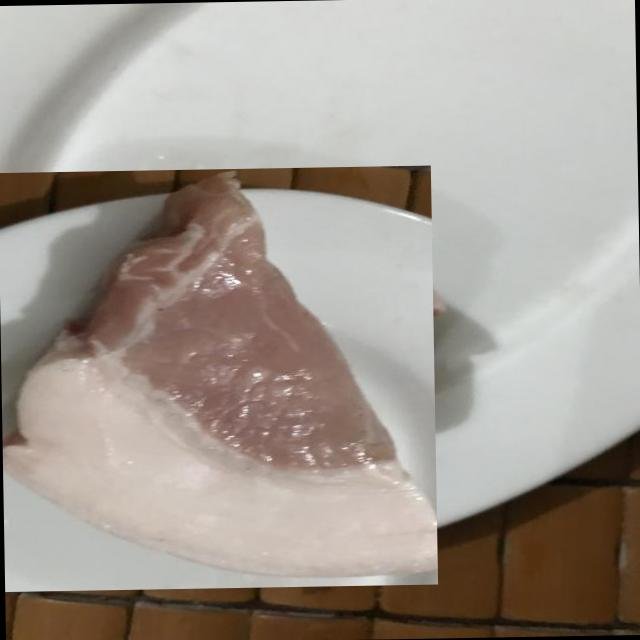chicken: (0, 164, 438, 592)
